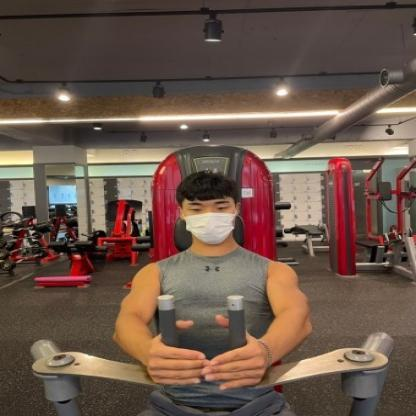chest fly machine: (2, 76, 416, 416)
